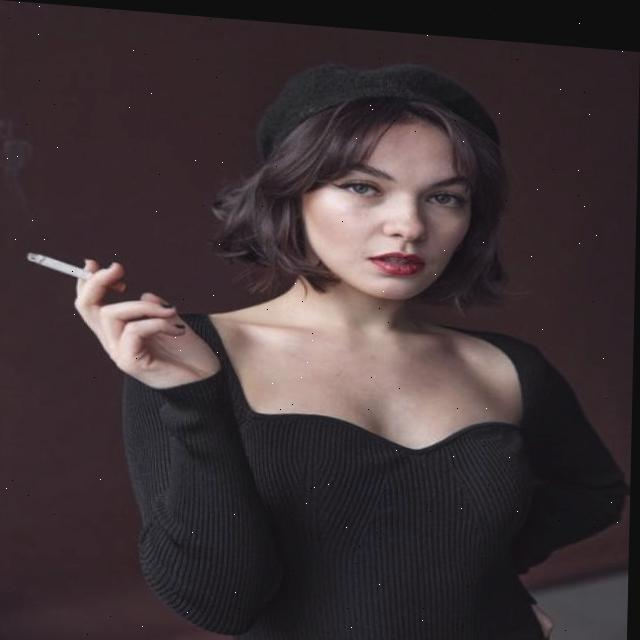cigarette: (26, 250, 129, 292)
